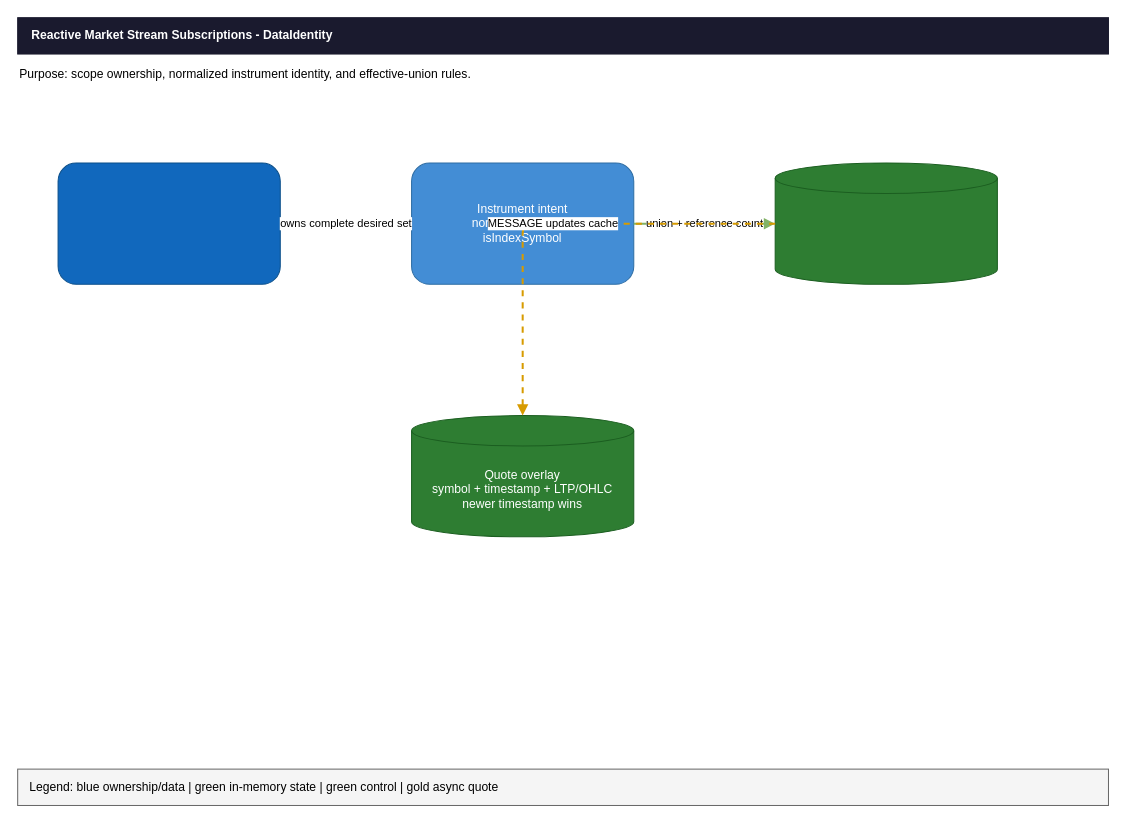
The diagram is 1126 pixels wide and 823 high, and some of its shapes have lost their labels. Here are the shapes that lost their labels. From the top down, the centre of each, then its label:
At point (168, 223): "Owner ID stable internal string market.dashboard market.equity-insider".
At point (885, 223): "Effective union Map symbol to owner refs typed additions/removals".
